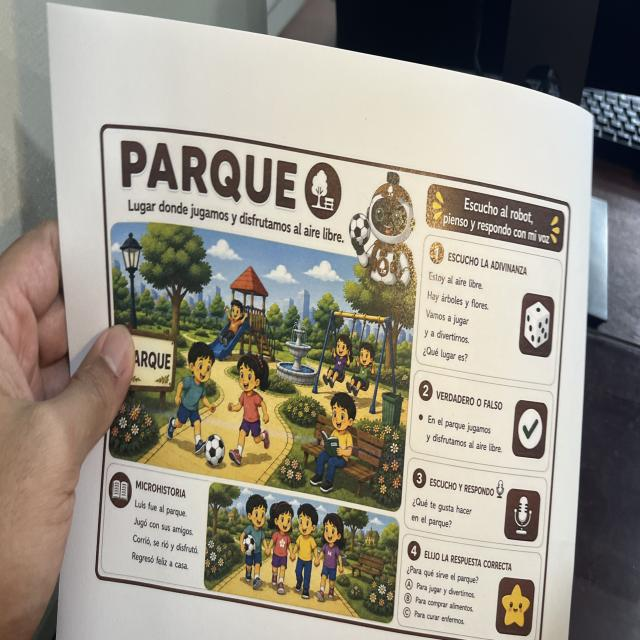parque: (93, 117, 574, 640)
